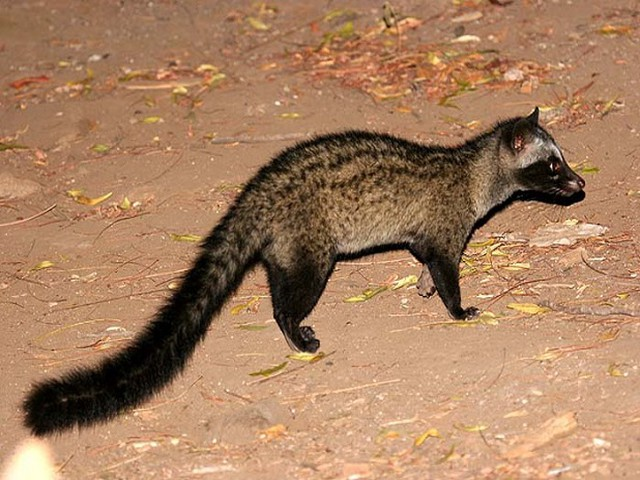civet: (23, 106, 585, 434)
